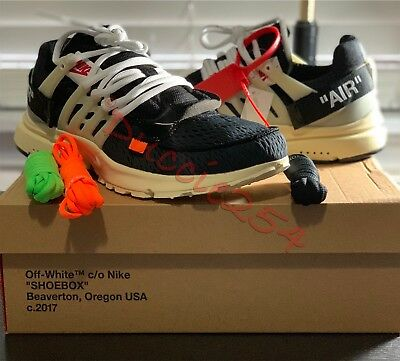Nike x OFF--WHITE Air Presto OG: (8, 31, 294, 204), (169, 11, 393, 171)
